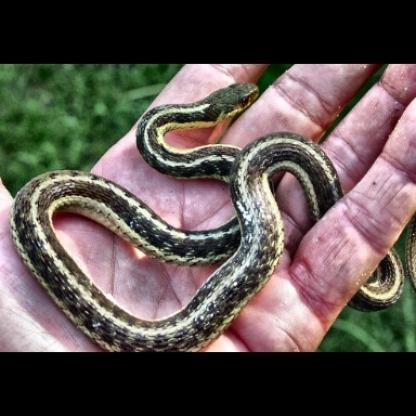Snake: (10, 74, 408, 347)
